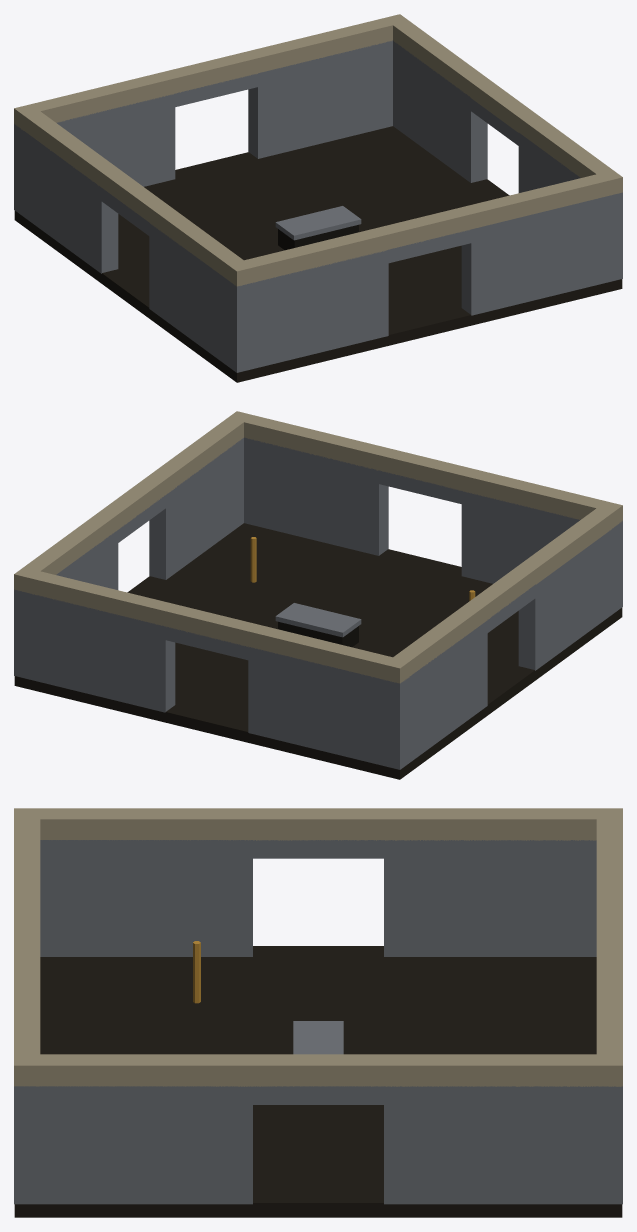
The model's file is CryptAntechamber.fbx.
The picture shows the model from 3 angles, top to bottom: view 1: azimuth 30°, elevation 25°; view 2: azimuth 150°, elevation 25°; view 3: azimuth 270°, elevation 25°; orthographic projection. The views are drawn at different scales.
Parts seen in each view (by area): view 1: CryptAntechamber; view 2: CryptAntechamber; view 3: CryptAntechamber.
Boxes of the visible parts, x1=… form: CryptAntechamber: x1=14, y1=14, x2=622, y2=382; CryptAntechamber: x1=14, y1=411, x2=622, y2=779; CryptAntechamber: x1=14, y1=808, x2=622, y2=1217.
Size of the model in its own units: 1202 by 332 by 1202.
Materials: 5 (5 with a texture image).
